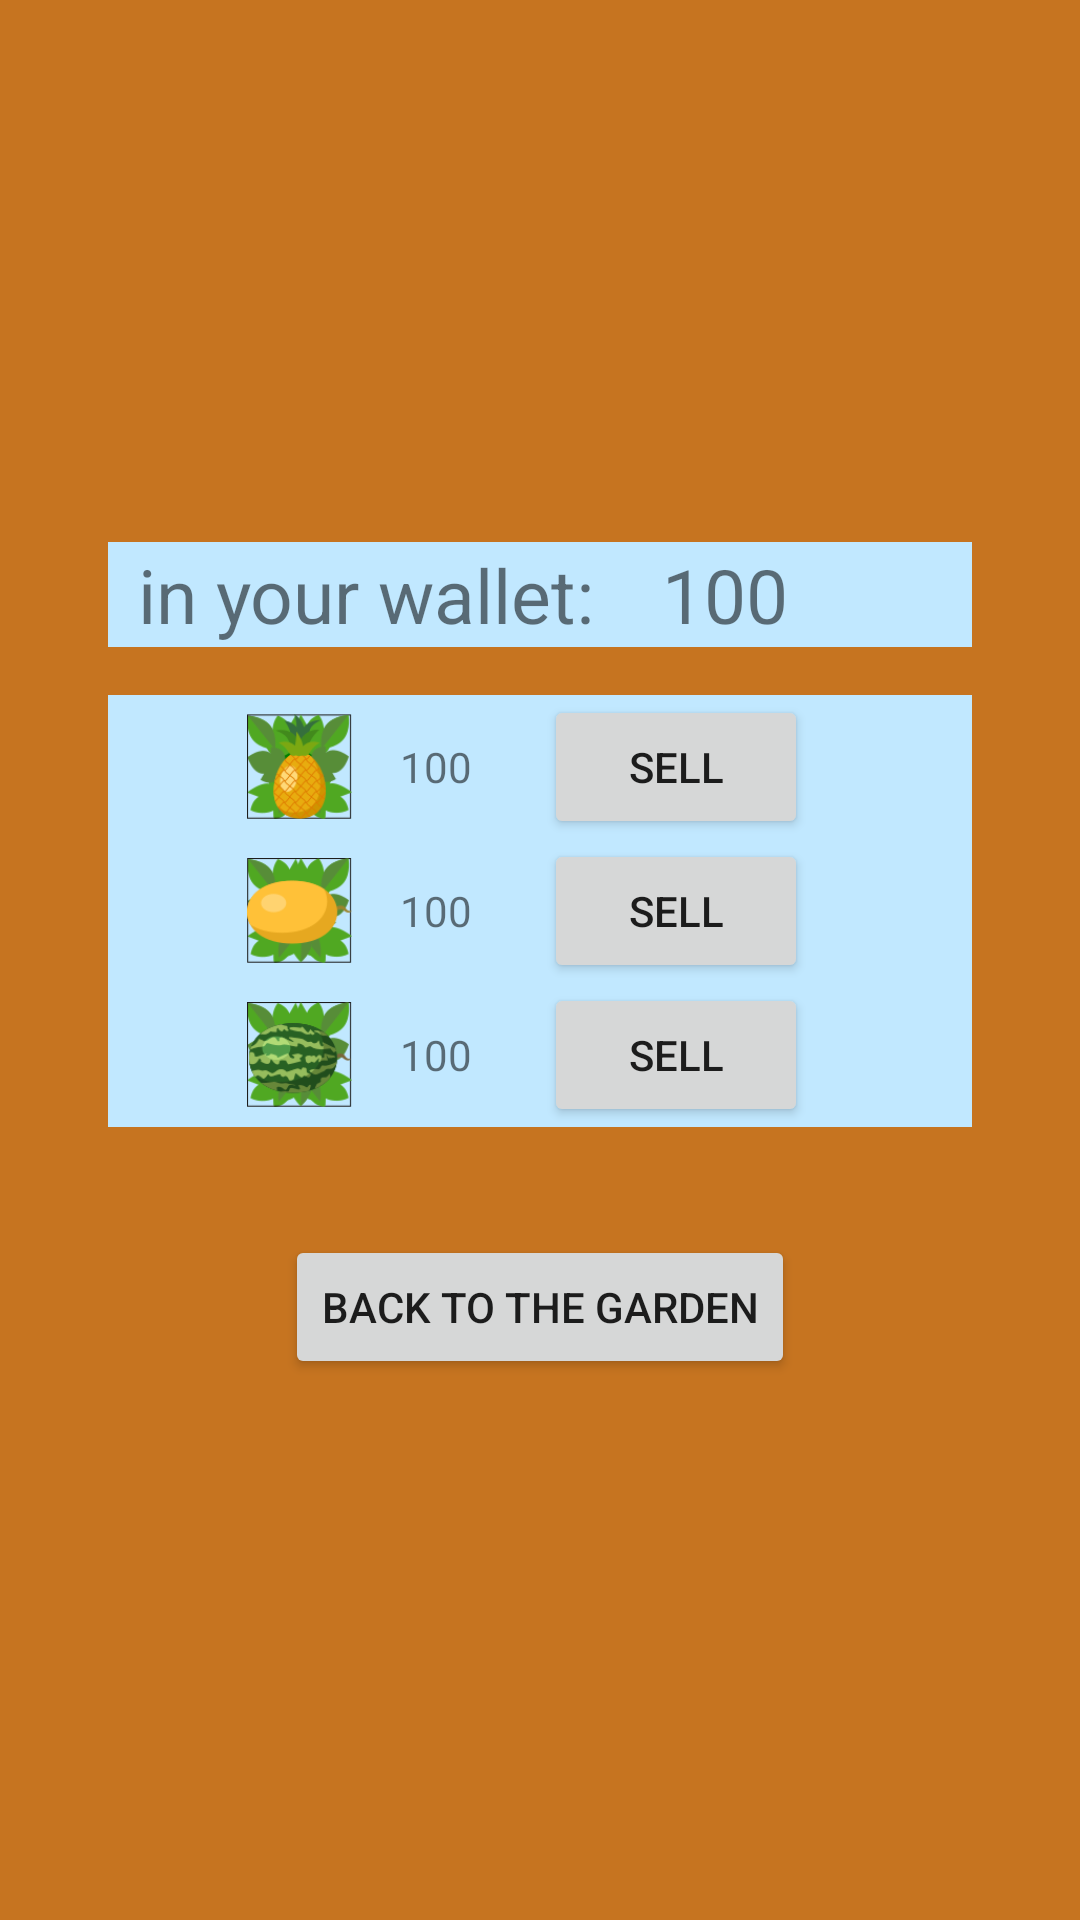

Icons on this 1080px×1920px Android screen, each with the point to tap as (x=x, y=y):
melon: (x=299, y=910)
pineapple: (x=299, y=766)
watermelon: (x=299, y=1054)
